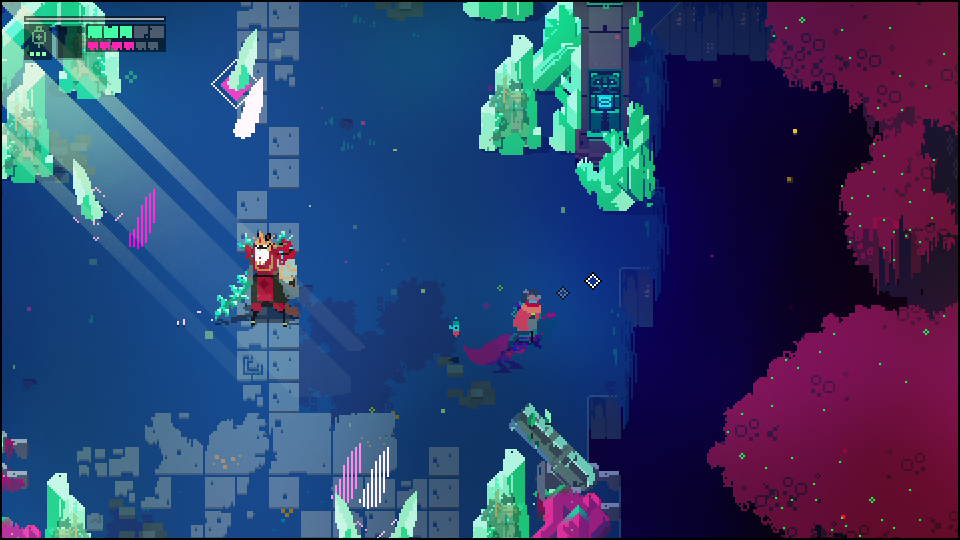hanged_man: (202, 226, 303, 332)
player: (510, 290, 545, 344)
